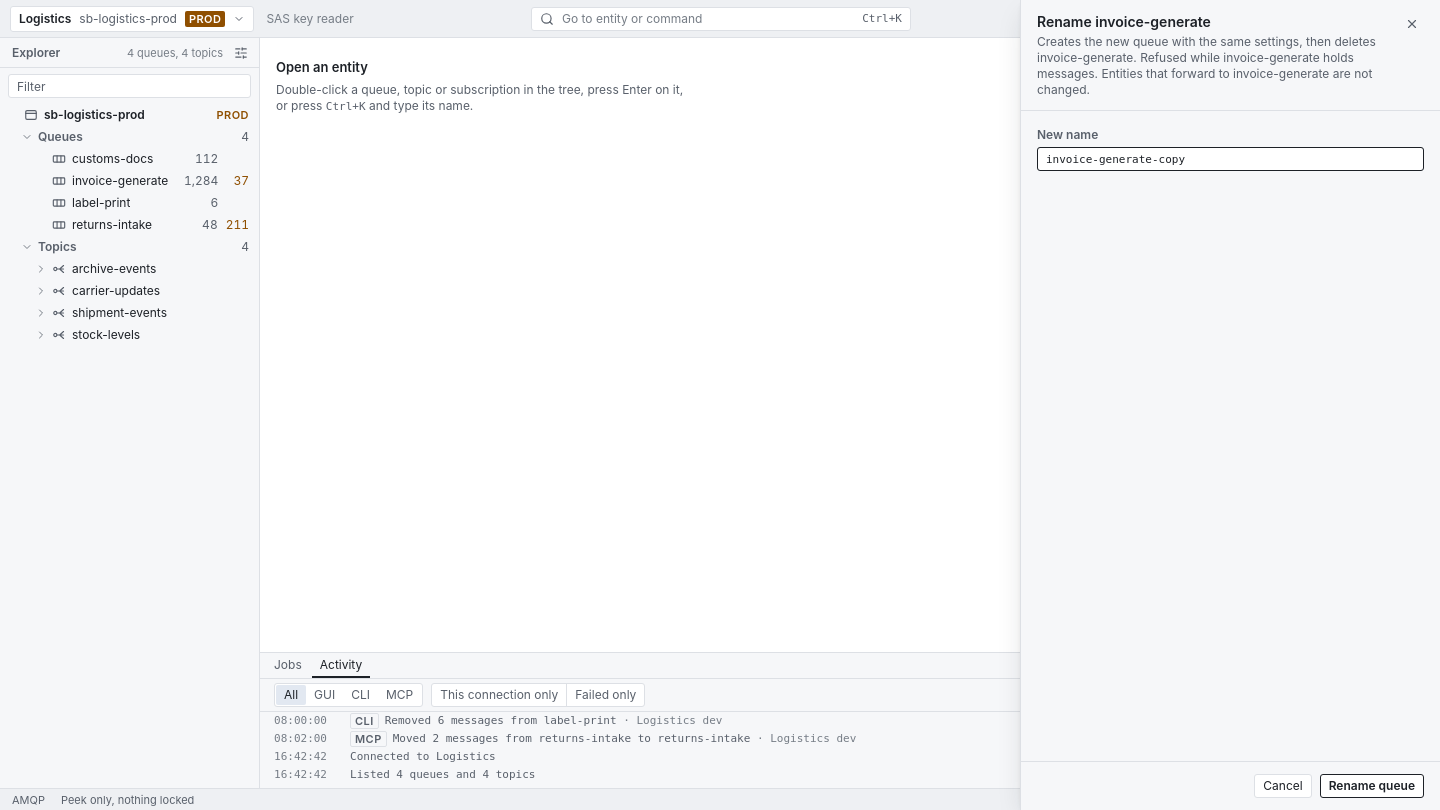
Test: status, copy and delete sheets › rename_refusal_shows_core_text
The width and height of the screenshot is (1440, 810).
expect the field labelled "New name" holds "invoice-generate-copy": met, box [1037,147,1424,171]
Click the button "Rename queue" at (1372,786), box [1320,774,1424,798]
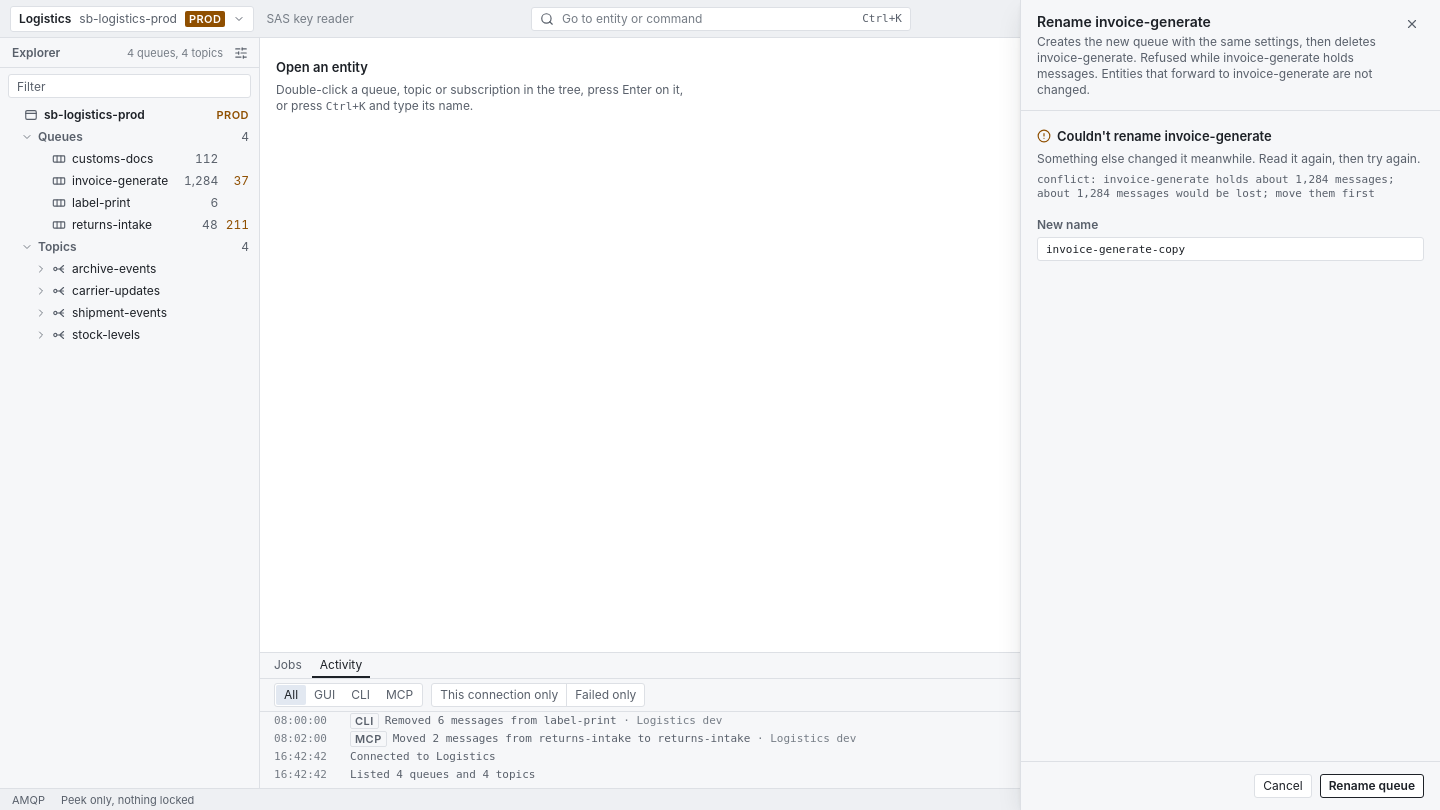
expect the field labelled "New name" is shown: met, box [1037,237,1424,261]
expect the text "holds about 1,284 messages" is shown: met, box [1037,173,1395,200]
